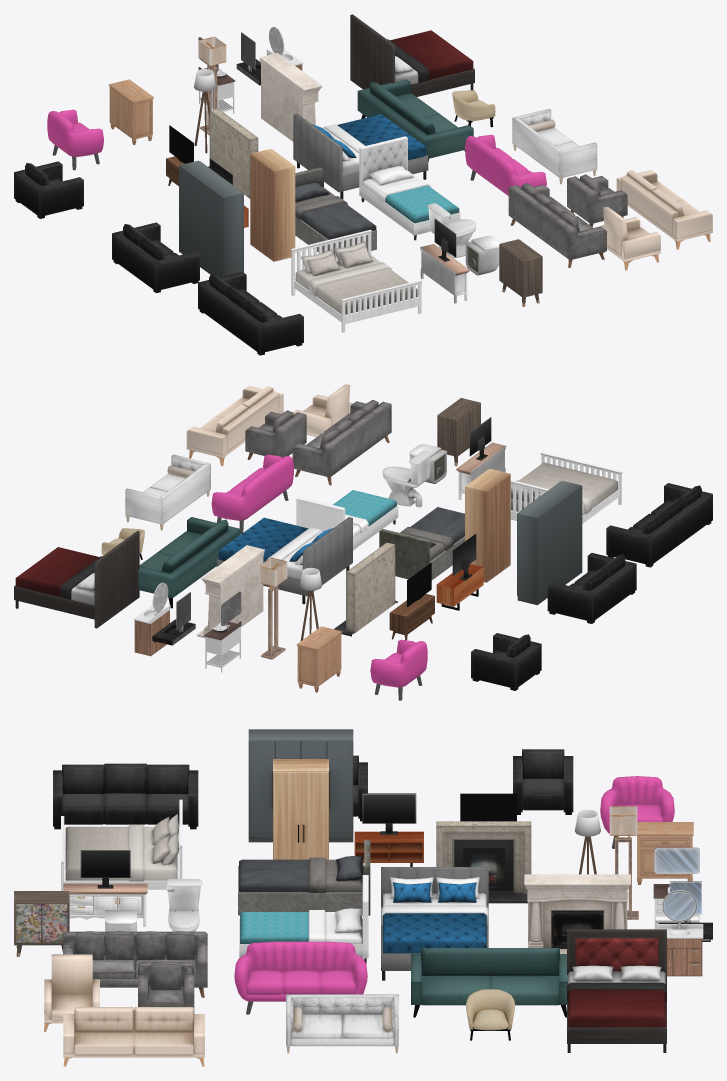
Rendered from low_poly_furnitures_full_bundle.glb.
The picture shows the model from 3 angles, top to bottom: view 1: azimuth 30°, elevation 25°; view 2: azimuth 150°, elevation 25°; view 3: azimuth 270°, elevation 25°; orthographic projection. The views are drawn at different scales.
Parts seen in each view (by area): view 1: Base_Low.001_22, Base_Low_20, Cube.021_26, Base_Low.002_3, Cube.015_18, Cube.005_8, Cube.017_21, Cube.009_12, Cube.011_14, Cube.016_19, Cube.006_9, Cube.014_17 (+20 smaller); view 2: Base_Low_20, Cube.021_26, Base_Low.002_3, Cube.005_8, Cube.009_12, Cube.011_14, Cube.017_21, Cube.006_9, Base_Low.001_22, Cube.016_19, Cube.014_17, Cube.012_15 (+20 smaller); view 3: Base_Low_20, Base_Low.002_3, Cube.005_8, Cube.009_12, Cube.021_26, Cube.014_17, Cube.016_19, Cylinder_6, Cube.022_27, Base_Low.001_22, Cube.012_15, Cube.001_0 (+21 smaller).
Part boxes in pixels (x1,y1,x2,y2): Base_Low.001_22: [290, 229, 422, 332]; Base_Low_20: [350, 14, 474, 96]; Cube.021_26: [179, 160, 243, 277]; Base_Low.002_3: [293, 113, 428, 199]; Cube.015_18: [359, 136, 460, 240]; Cube.005_8: [198, 271, 303, 355]; Cube.017_21: [250, 149, 295, 261]; Cube.009_12: [357, 79, 473, 161]; Cube.011_14: [508, 183, 606, 267]; Cube.016_19: [295, 167, 376, 257]; Cube.006_9: [112, 222, 199, 293]; Cube.014_17: [616, 170, 712, 249]; Base_Low_20: [14, 531, 139, 628]; Cube.021_26: [517, 480, 582, 605]; Base_Low.002_3: [216, 517, 352, 604]; Cube.005_8: [606, 483, 712, 567]; Cube.009_12: [138, 517, 240, 608]; Cube.011_14: [292, 400, 391, 485]; Cube.017_21: [465, 469, 510, 582]; Cube.006_9: [547, 553, 636, 623]; Base_Low.001_22: [510, 452, 622, 523]; Cube.016_19: [379, 507, 464, 580]; Cube.014_17: [186, 385, 283, 466]; Cube.012_15: [125, 454, 210, 530]; Base_Low_20: [567, 929, 666, 1052]; Base_Low.002_3: [381, 867, 488, 980]; Cube.005_8: [53, 763, 198, 829]; Cube.009_12: [411, 948, 568, 1017]; Cube.021_26: [248, 729, 353, 842]; Cube.014_17: [63, 1007, 204, 1066]; Cube.016_19: [238, 839, 370, 915]; Cylinder_6: [234, 941, 367, 1014]; Cube.022_27: [524, 874, 630, 953]; Base_Low.001_22: [61, 799, 182, 890]; Cube.012_15: [286, 994, 398, 1053]; Cube.001_0: [436, 821, 531, 903].
Size of the model in its own units: 9.12 by 1.69 by 9.67.
33 materials, 33 textured.
